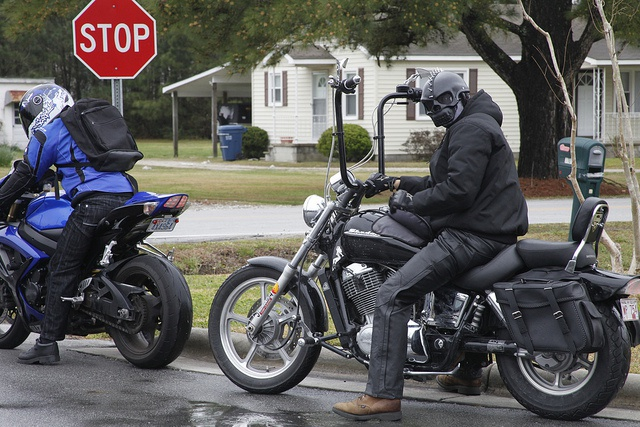non-vehicle: (209, 67, 638, 415), (0, 157, 193, 367)
